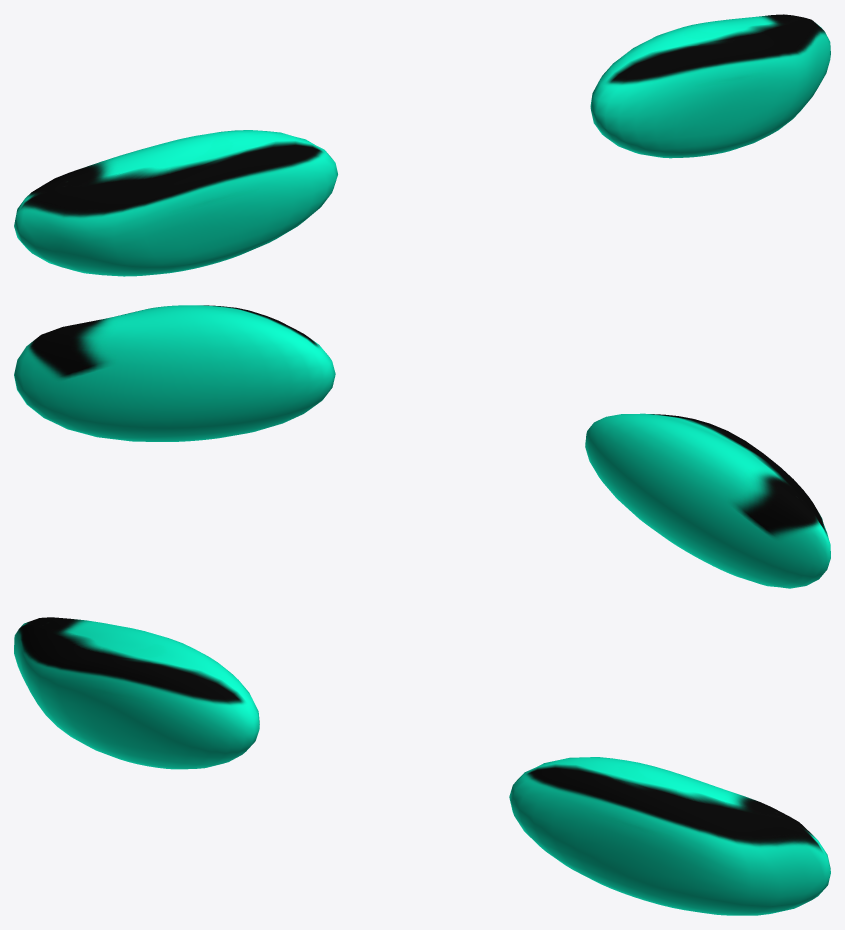
The model's file is Zombie-Mint.glb.
The picture shows the model from 3 angles, top to bottom: view 1: azimuth 30°, elevation 25°; view 2: azimuth 150°, elevation 25°; view 3: azimuth 330°, elevation 25°; orthographic projection.
Parts seen in each view (by area): view 1: Sphere.002; view 2: Sphere.002; view 3: Sphere.002.
Boxes of the visible parts, x1=… form: Sphere.002: x1=14, y1=14, x2=830, y2=276; Sphere.002: x1=14, y1=305, x2=830, y2=588; Sphere.002: x1=14, y1=617, x2=830, y2=915.
Bounding box in the file's own units: 0.3777 × 0.0623 × 0.0485.
1 material, 1 textured.
